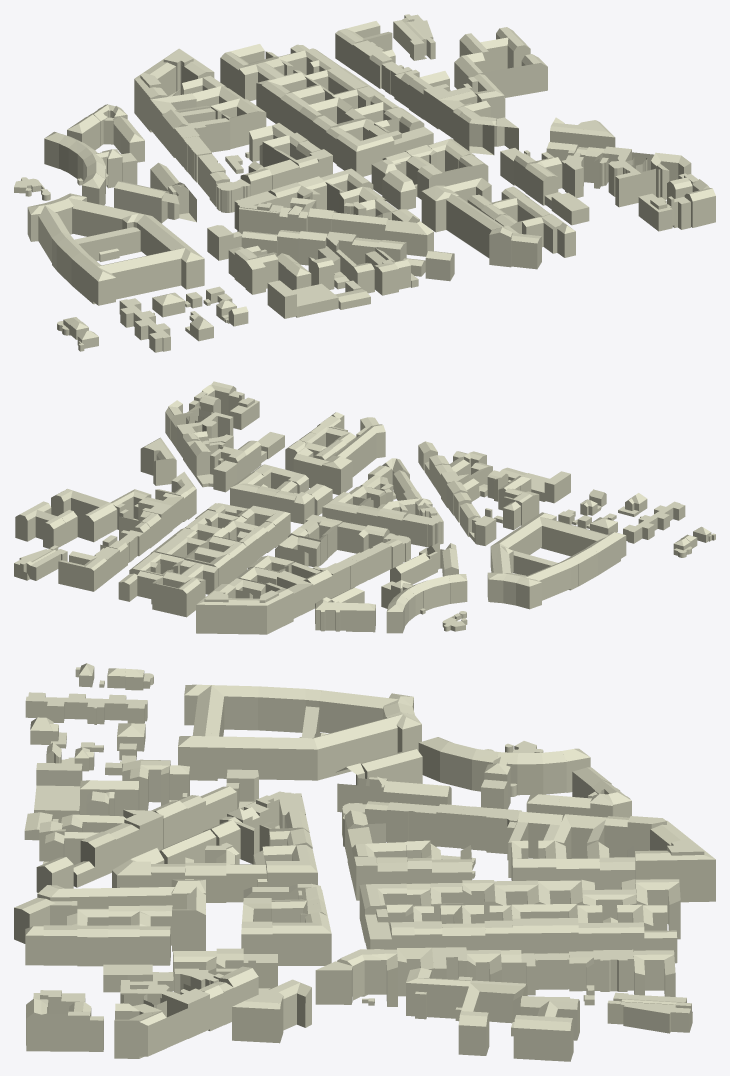
3 views of the same model, one above another, from view 1: azimuth 30°, elevation 25°; view 2: azimuth 150°, elevation 25°; view 3: azimuth 270°, elevation 25° (orthographic). The views are drawn at different scales.
Visible parts, largest first — view 1: group_117 (×6), group_44 (×2), group_17 (×2), group_152, group_6, group_128, group_34, group_108, group_111 (×3), group_84, group_112, group_23 (+81 smaller); view 2: group_117 (×7), group_152, group_44, group_111 (×4), group_125, group_28, group_32, group_6, group_84, group_2, group_146, group_33 (+65 smaller); view 3: group_117 (×5), group_111 (×7), group_152 (×2), group_44, group_17 (×2), group_2, group_21, group_146, group_33, group_45, group_27, group_4 (+92 smaller).
Boxes of the visible parts, x1,y1,x2,y2 form: group_117 (×6): [27, 198, 204, 305]; group_44 (×2): [421, 178, 512, 267]; group_17 (×2): [453, 101, 518, 155]; group_152: [134, 48, 214, 132]; group_6: [463, 54, 547, 97]; group_128: [336, 125, 394, 176]; group_34: [599, 146, 641, 207]; group_108: [162, 108, 230, 157]; group_111 (×3): [68, 140, 122, 205]; group_84: [234, 191, 283, 234]; group_112: [210, 98, 266, 149]; group_23: [638, 193, 690, 231]; group_117 (×7): [487, 512, 626, 609]; group_152: [196, 584, 293, 634]; group_44: [293, 426, 376, 494]; group_111 (×4): [386, 574, 467, 633]; group_125: [152, 572, 200, 617]; group_28: [58, 551, 106, 591]; group_32: [15, 508, 65, 548]; group_6: [51, 488, 117, 535]; group_84: [402, 507, 443, 547]; group_2: [140, 437, 176, 485]; group_146: [623, 501, 685, 543]; group_33: [14, 545, 67, 580]; group_117 (×5): [178, 684, 421, 780]; group_111 (×7): [418, 737, 590, 809]; group_152 (×2): [604, 816, 715, 902]; group_44: [50, 879, 205, 951]; group_17 (×2): [315, 949, 397, 1006]; group_2: [232, 979, 311, 1043]; group_21: [26, 998, 103, 1051]; group_146: [25, 692, 147, 724]; group_33: [607, 992, 692, 1033]; group_45: [272, 912, 331, 965]; group_27: [114, 1003, 166, 1058]; group_4: [406, 968, 472, 1021].
Bounding box in the file's own units: 21025 × 16409 × 1257.
